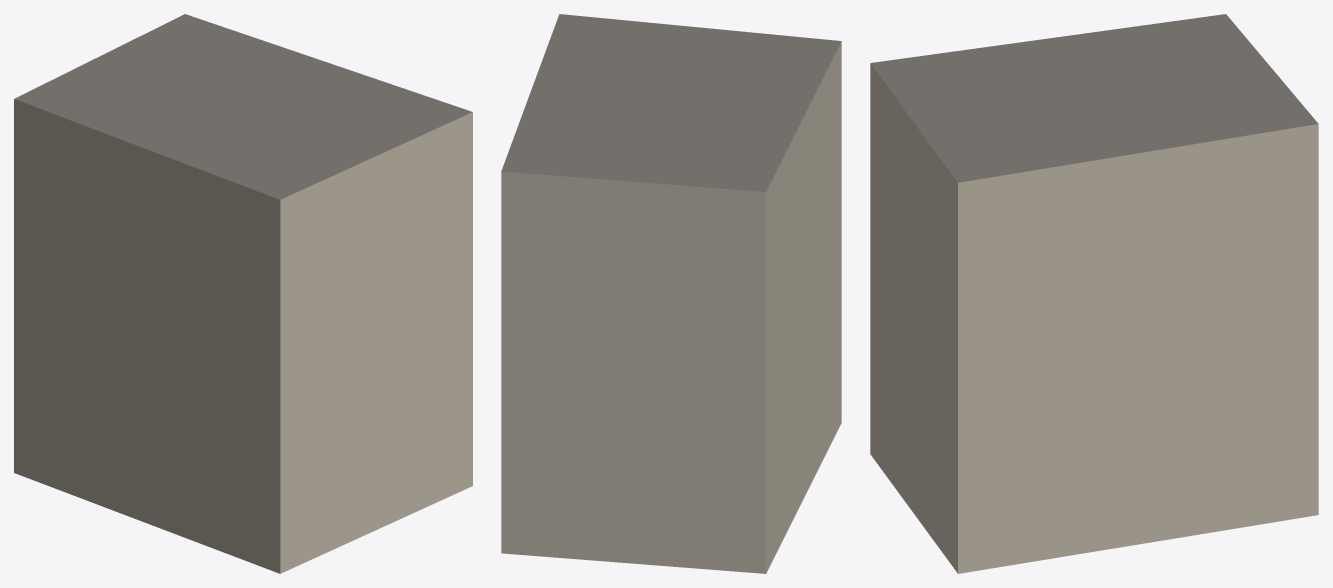
3 renders of one model, left to right at view 1: azimuth 30°, elevation 25°; view 2: azimuth 150°, elevation 25°; view 3: azimuth 270°, elevation 25°, orthographic. The views are drawn at different scales.
Parts seen in each view (by area): view 1: HP-w756797939; view 2: HP-w756797939; view 3: HP-w756797939.
Boxes of the visible parts, x1=… form: HP-w756797939: x1=14, y1=14, x2=472, y2=573; HP-w756797939: x1=501, y1=14, x2=841, y2=573; HP-w756797939: x1=870, y1=14, x2=1318, y2=573.
Bounding box in the file's own units: 16.66 × 18 × 18.69.
